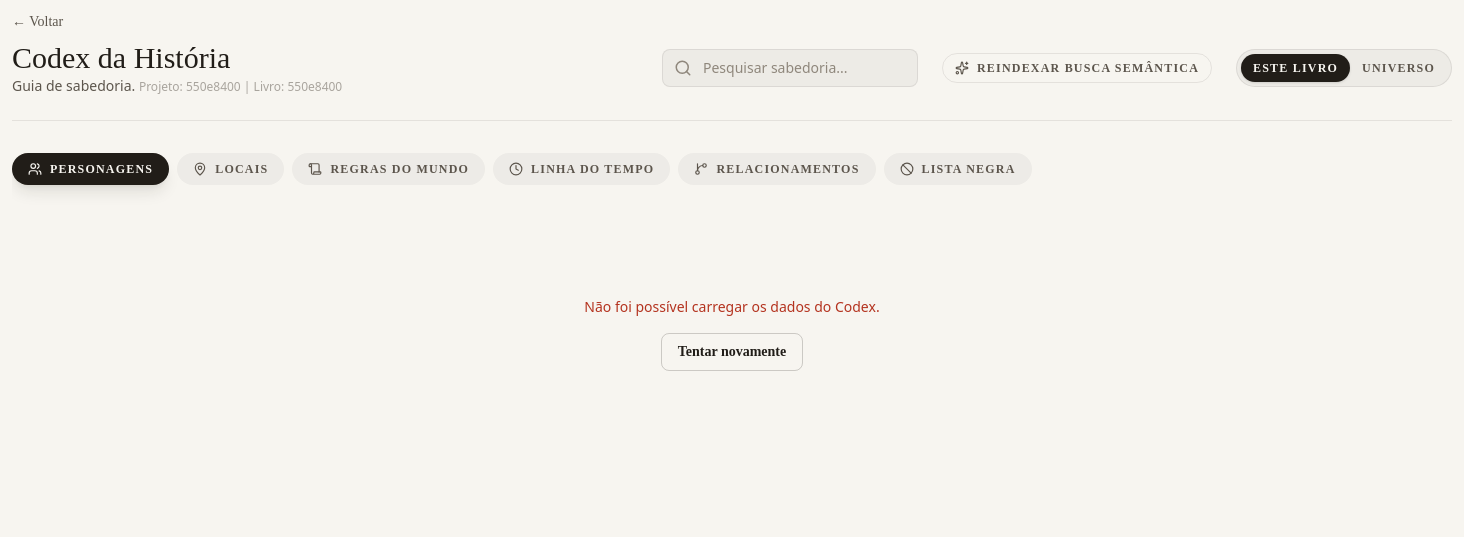
it: CodexDashboard UX › error states › should show an error state with retry when loading data fails
Expected: the text "Não foi possível carregar os dados do Codex." is shown, [584,297,880,317]
Expected: the text "Alaric" is not shown
Click the button "Tentar novamente": (732, 352) [661,333,803,371]
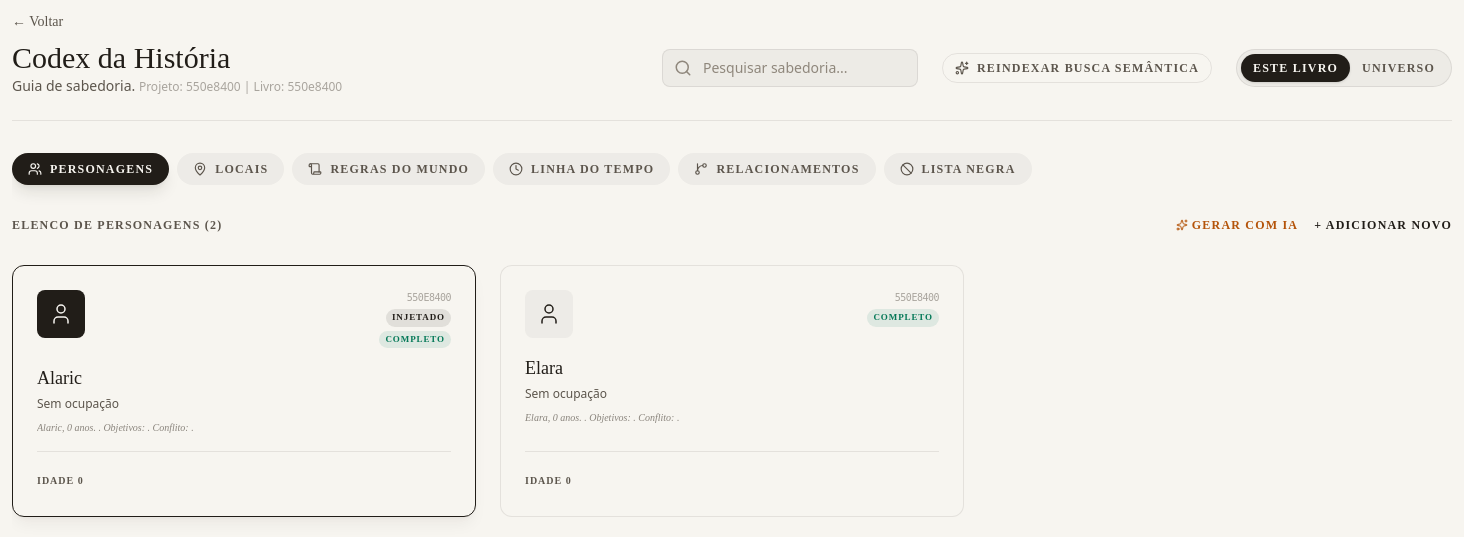
Expected: the heading "Alaric" is shown, [37,368,82,388]
Expected: the text "Não foi possível carregar" is gone
